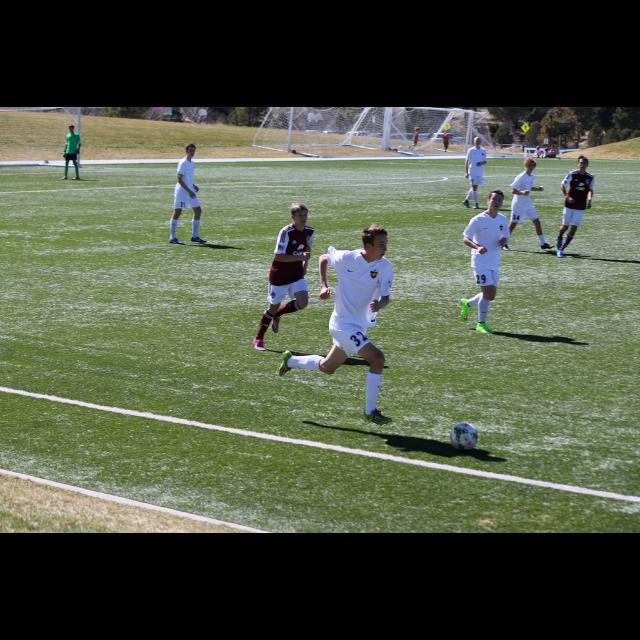Football: (448, 420, 478, 452)
